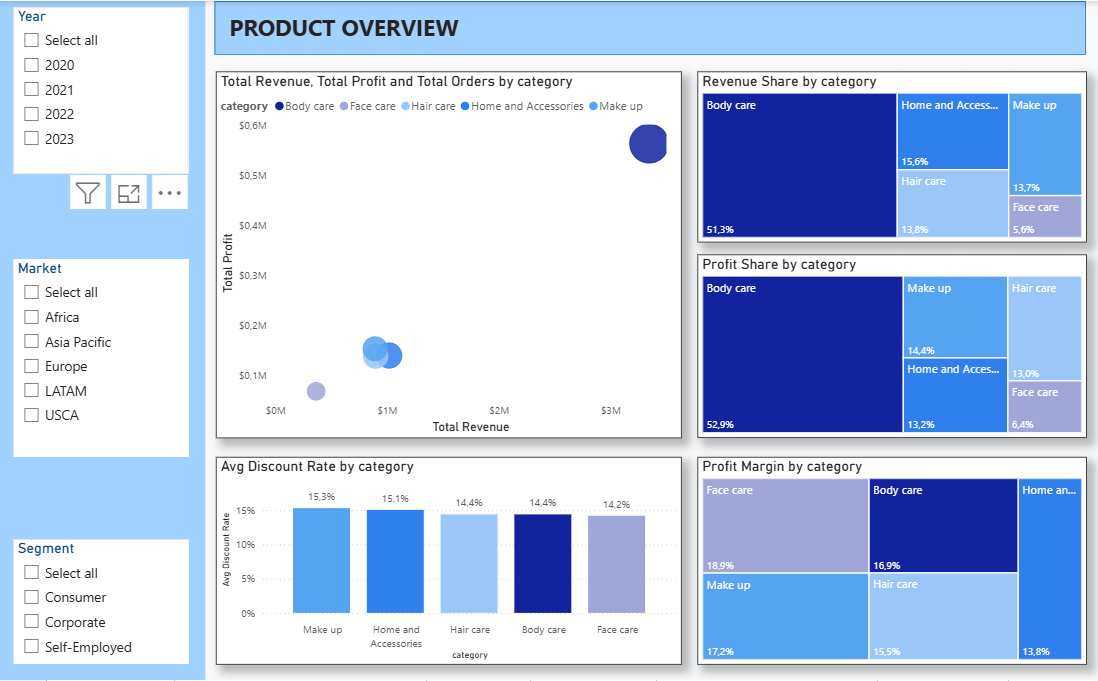

Layout of this report page (visuals, bound fields, positions):
{"tool":"powerbi","page":{"name":"Product","canvas":[1300,800],"ordinal":3},"visuals":[{"type":"shape","box":[0,0,242,800.9],"z":0},{"type":"shape","box":[253.2,0,1026.8,63.6],"z":1000},{"type":"treemap","fields":{"Group":["dim_product.category"],"Values":["sales.Revenue Share"]},"box":[822.2,82.8,458.8,201.5],"z":2000},{"type":"treemap","fields":{"Group":["dim_product.category"],"Values":["sales.Profit Share"]},"box":[822.2,298.7,458.8,215.9],"z":3000},{"type":"clusteredColumnChart","fields":{"Category":["dim_product.category"],"Y":["sales.Avg Discount Rate"]},"box":[253.7,537.9,548.7,244.7],"z":4000},{"type":"treemap","fields":{"Values":["sales.Profit Margin"],"Group":["dim_product.category"]},"box":[822.2,537.9,458.8,244.7],"z":5000},{"type":"scatterChart","fields":{"X":["sales.Total Revenue"],"Y":["sales.Total Profit"],"Series":["dim_product.category"],"Size":["sales.Total Orders"]},"box":[253.7,82.8,548.7,431.8],"z":6000},{"type":"slicer","title":"Year","fields":{"Values":["date.year"]},"box":[15.9,7.1,206.8,196.2],"z":7000},{"type":"slicer","title":"Market","fields":{"Values":["dim_region.market"]},"box":[15.9,304,206.8,233.3],"z":9000},{"type":"slicer","title":"Segment","fields":{"Values":["sales.segment"]},"box":[15.9,634.5,206.8,146.7],"z":10000},{"type":"textbox","box":[265.6,7.9,1007.5,74.8],"z":11000}]}

Visuals, with their boxes in screenshot pixels (x1, y1, x2, y2), scaled from the page's 1300x800 canvas onto the 1098x681 screenshot:
shape: crop(0, 0, 204, 680)
shape: crop(214, 0, 1081, 54)
treemap - dim_product.category x sales.Revenue Share: crop(694, 70, 1082, 242)
treemap - dim_product.category x sales.Profit Share: crop(694, 254, 1082, 438)
clusteredColumnChart - dim_product.category x sales.Avg Discount Rate: crop(214, 458, 678, 666)
treemap - sales.Profit Margin x dim_product.category: crop(694, 458, 1082, 666)
scatterChart - sales.Total Revenue x sales.Total Profit: crop(214, 70, 678, 438)
"Year" slicer: crop(13, 6, 188, 173)
"Market" slicer: crop(13, 259, 188, 457)
"Segment" slicer: crop(13, 540, 188, 665)
textbox: crop(224, 7, 1075, 70)
